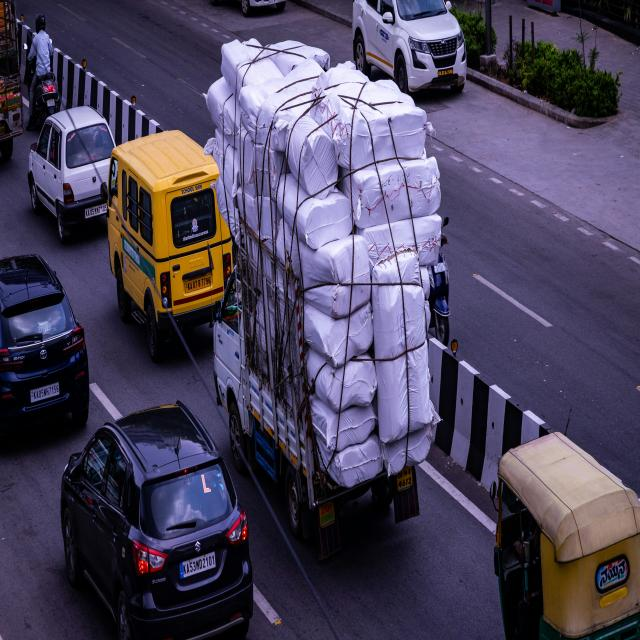Car: (61, 402, 253, 639), (490, 428, 639, 639), (102, 131, 232, 362), (0, 255, 89, 432), (28, 107, 114, 243), (214, 268, 254, 473), (214, 268, 248, 472), (0, 3, 24, 160), (0, 45, 24, 160), (425, 252, 450, 345), (29, 72, 61, 130)
